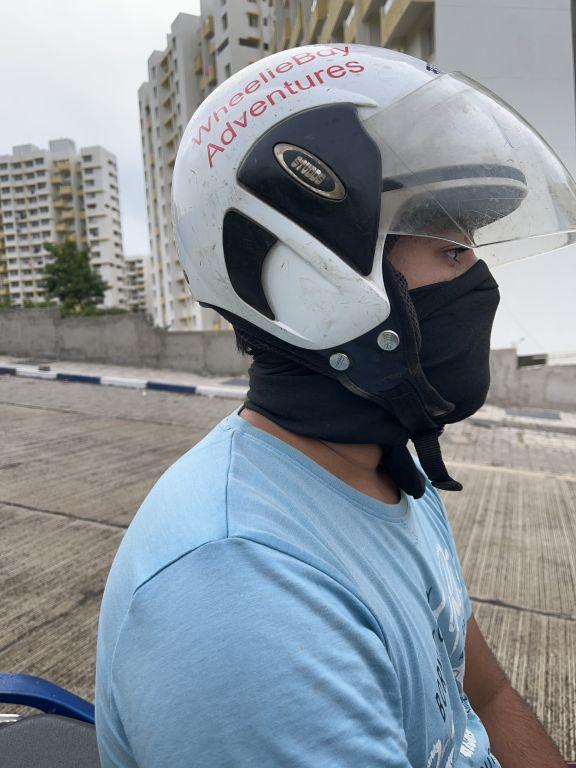helmet: (162, 34, 576, 463)
